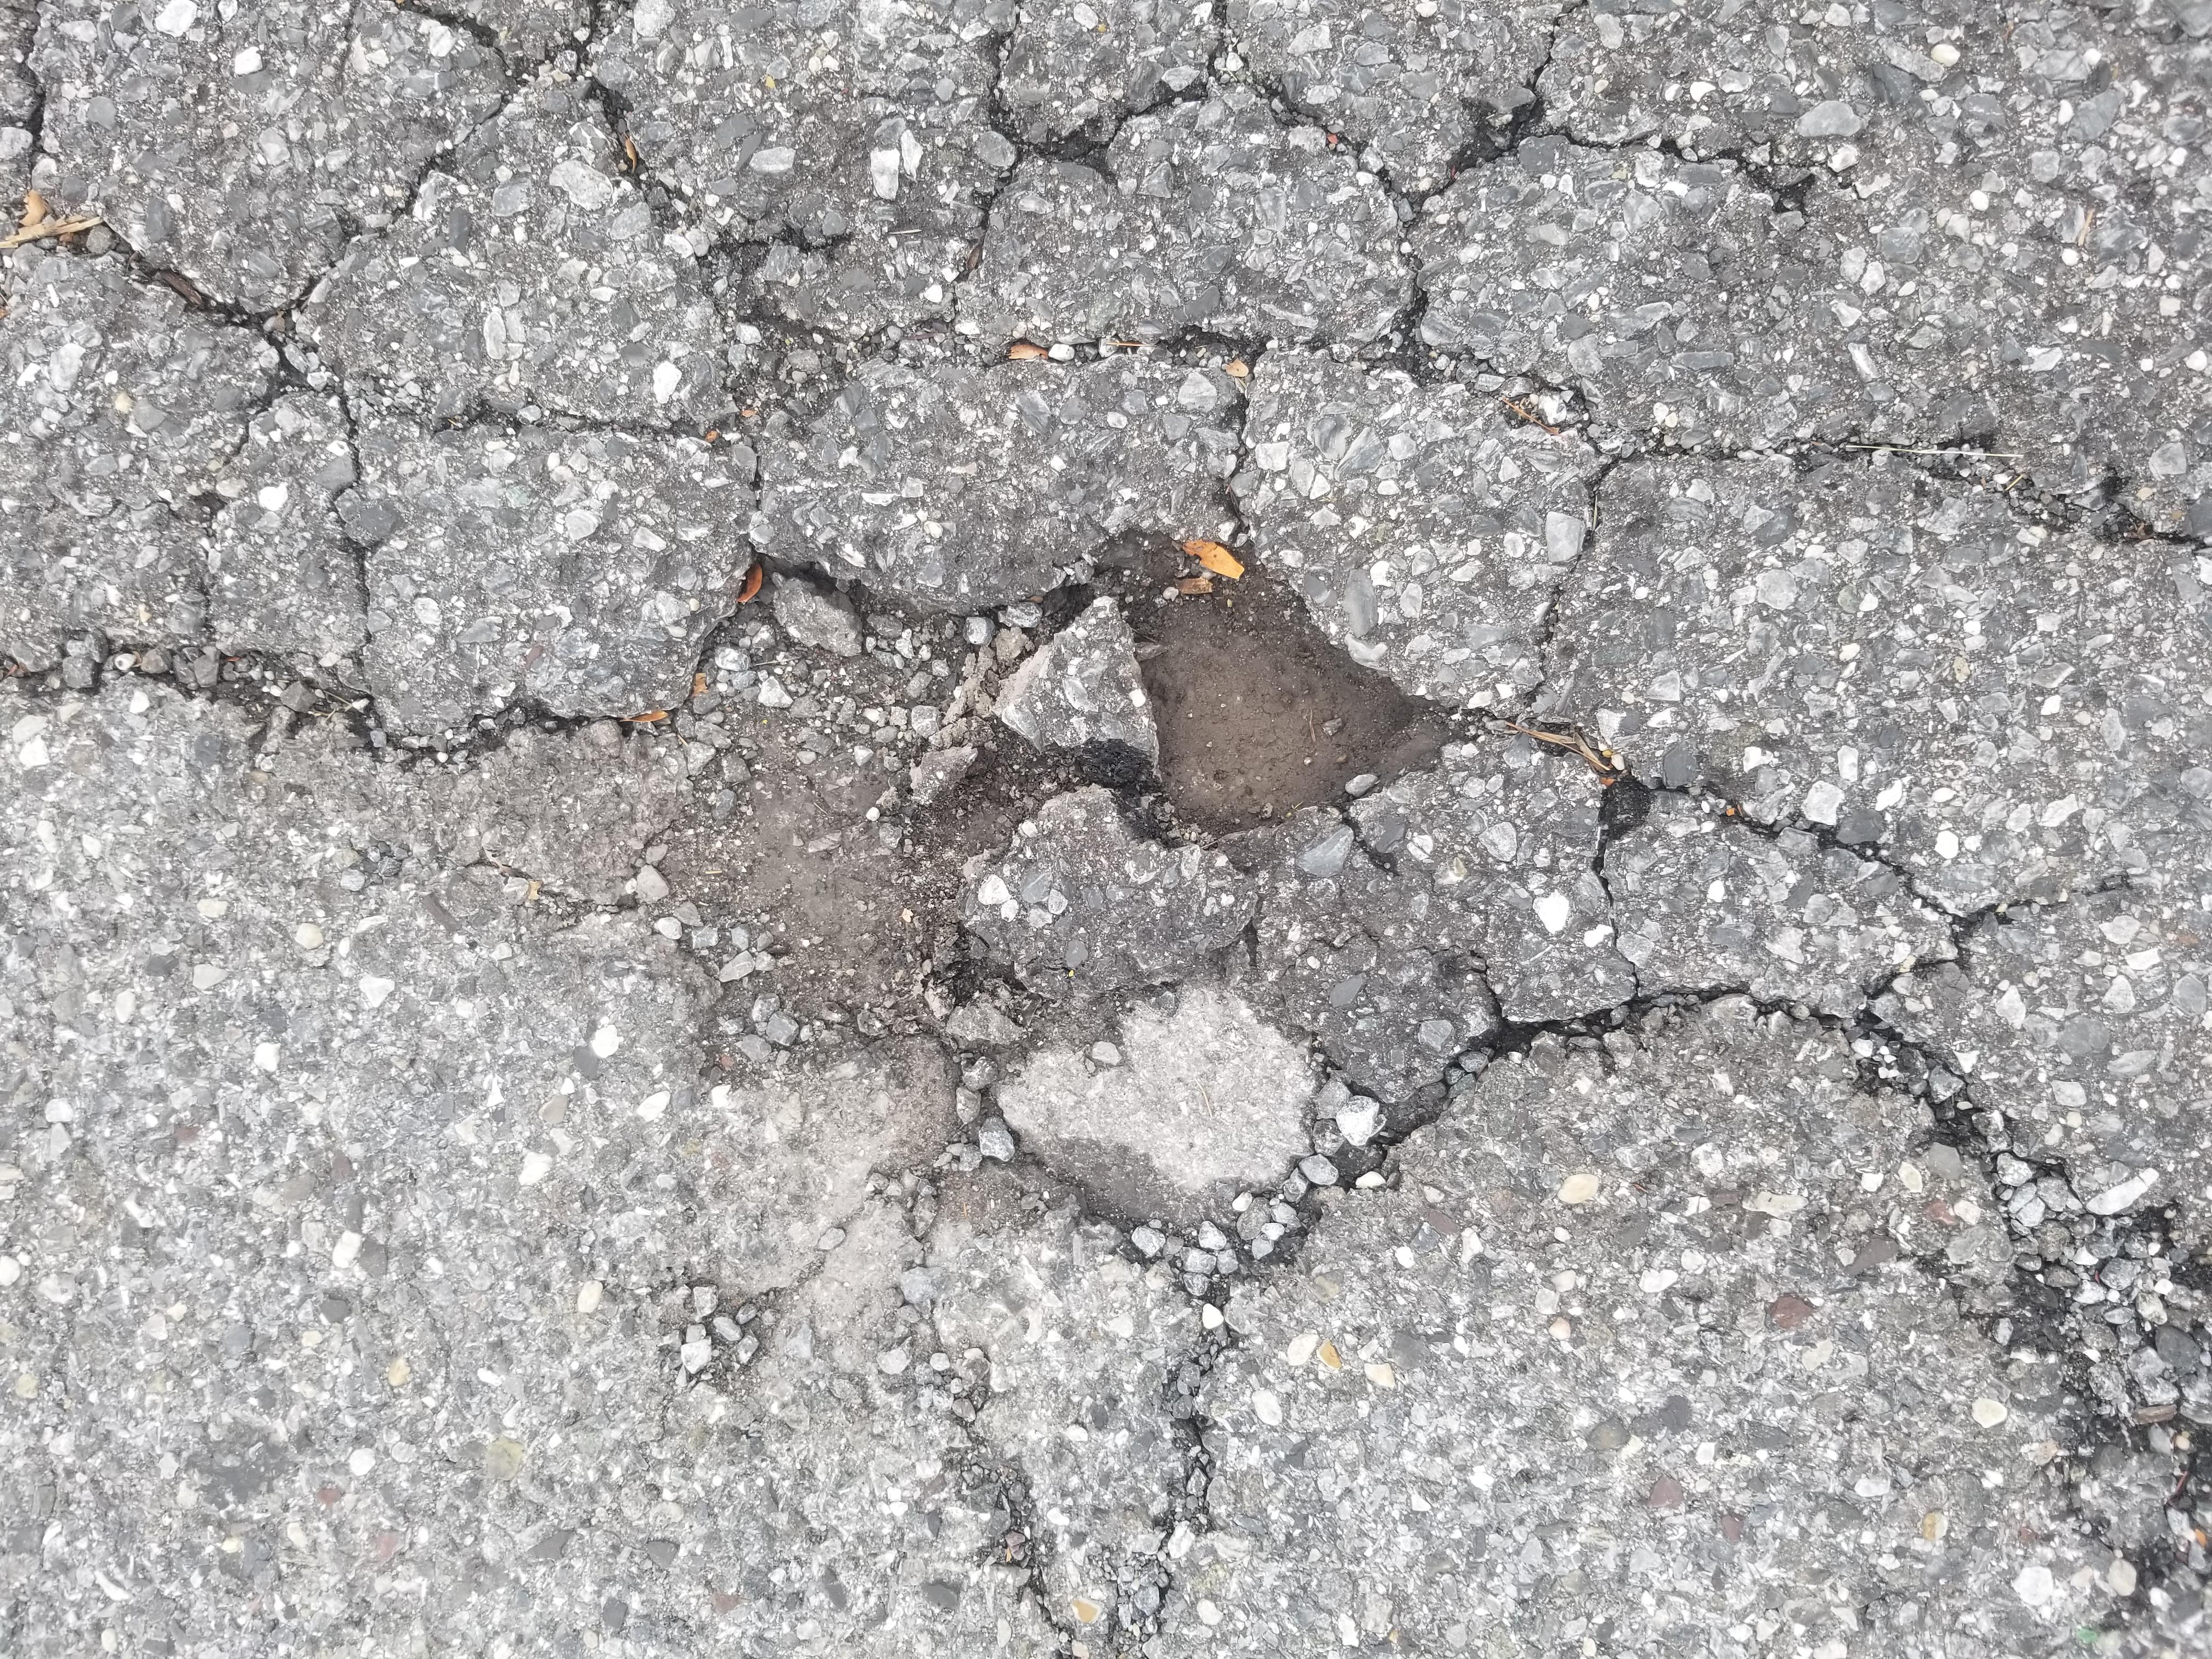alligator-crack: (54, 669, 2212, 1659), (1202, 9, 2212, 706)
